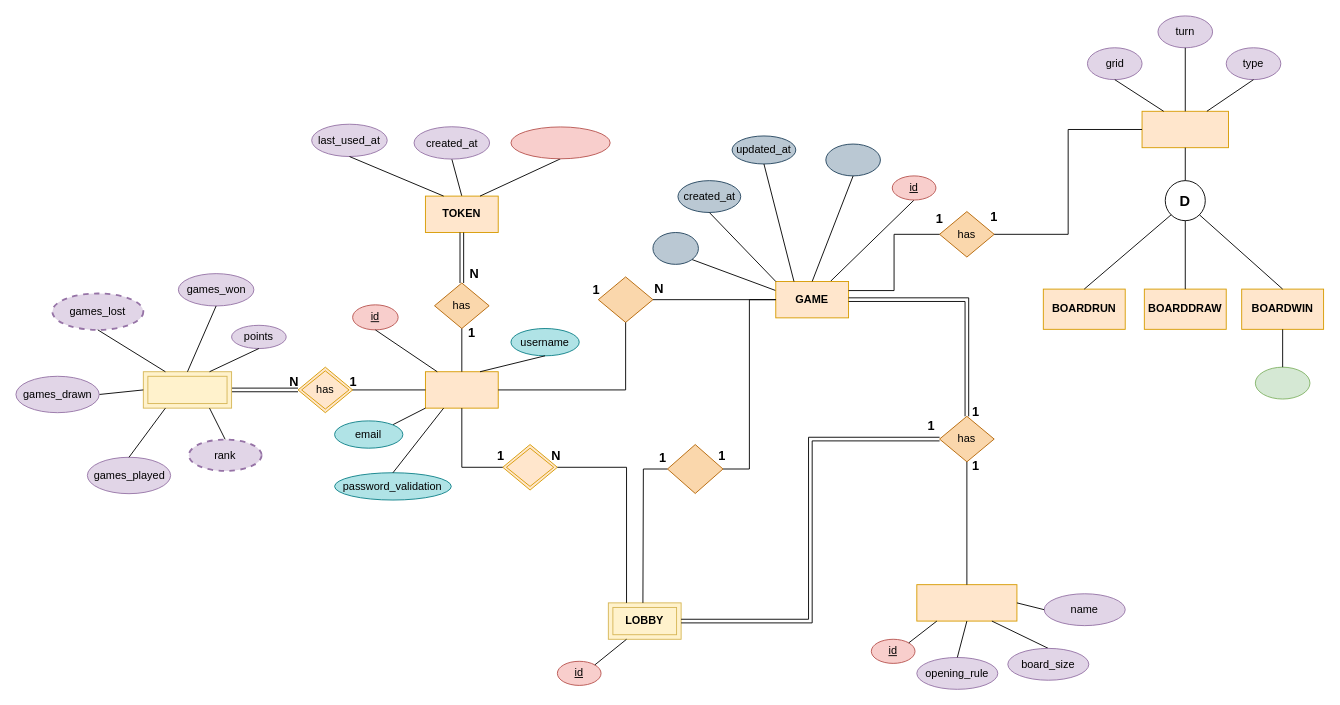
Some shapes in this 1340 by 705 pixel diagram are drawn without their labels. Each missing label, with the box of its shape:
BOARD: (1141, 110, 1228, 148)
GAME_VARIANT: (916, 584, 1017, 621)
lobby_id: (825, 143, 880, 176)
match: (667, 444, 723, 493)
plays: (597, 276, 653, 322)
state: (652, 232, 698, 264)
STATISTICS: (142, 371, 232, 408)
token_validation: (510, 126, 610, 159)
USER: (425, 371, 498, 408)
waits: (502, 444, 557, 490)
winner: (1254, 366, 1310, 399)
